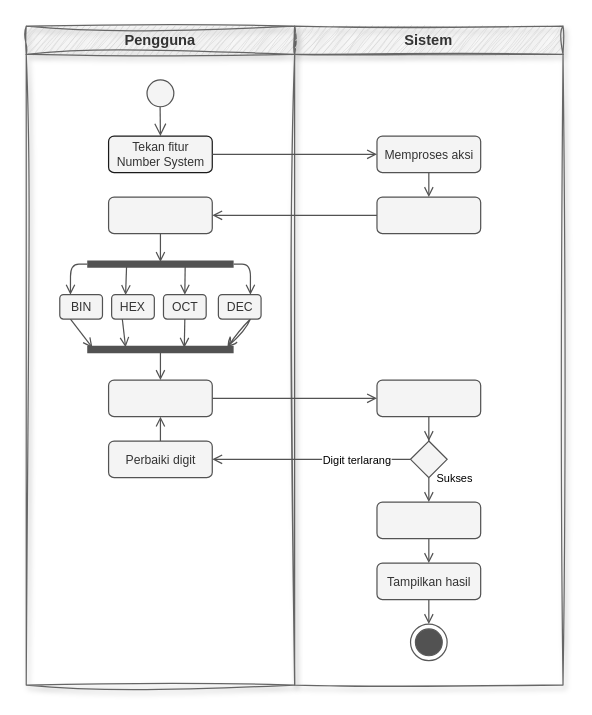
Some shapes in this 592 by 715 pixel diagram are drawn without their labels. The shapes that lost their labels are listed below. From the top down, each one's centre as x and y in pixels, then its label:
At point (159, 215): "Pilih sistem bilangan".
At point (428, 215): "Menampilkan fitur ke layar".
At point (159, 398): "Masukkan digit".
At point (428, 398): "Validasi digit".
At point (428, 520): "Konversi".
